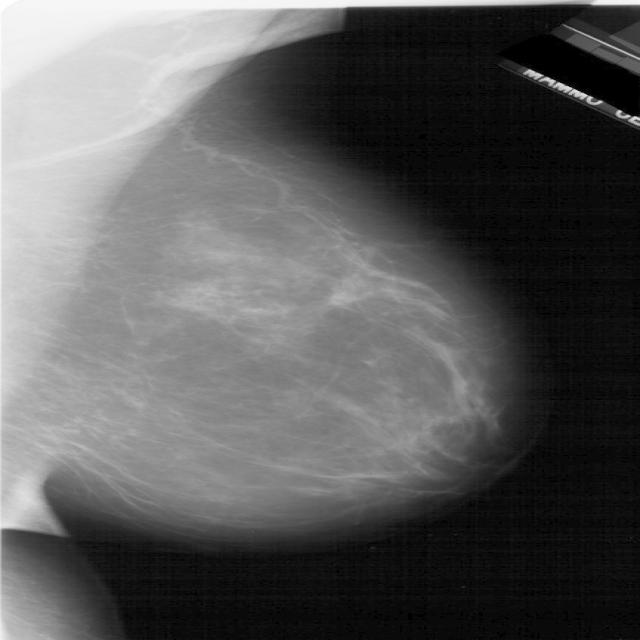tumour: (325, 276, 373, 306)
